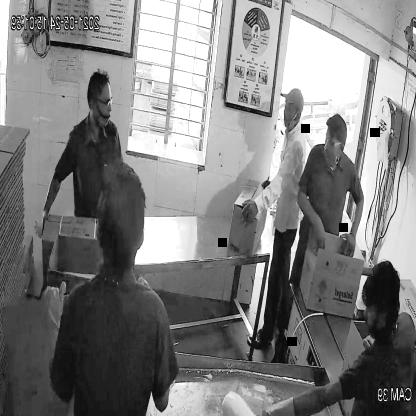goggles: (322, 132, 348, 152), (89, 92, 114, 112)
